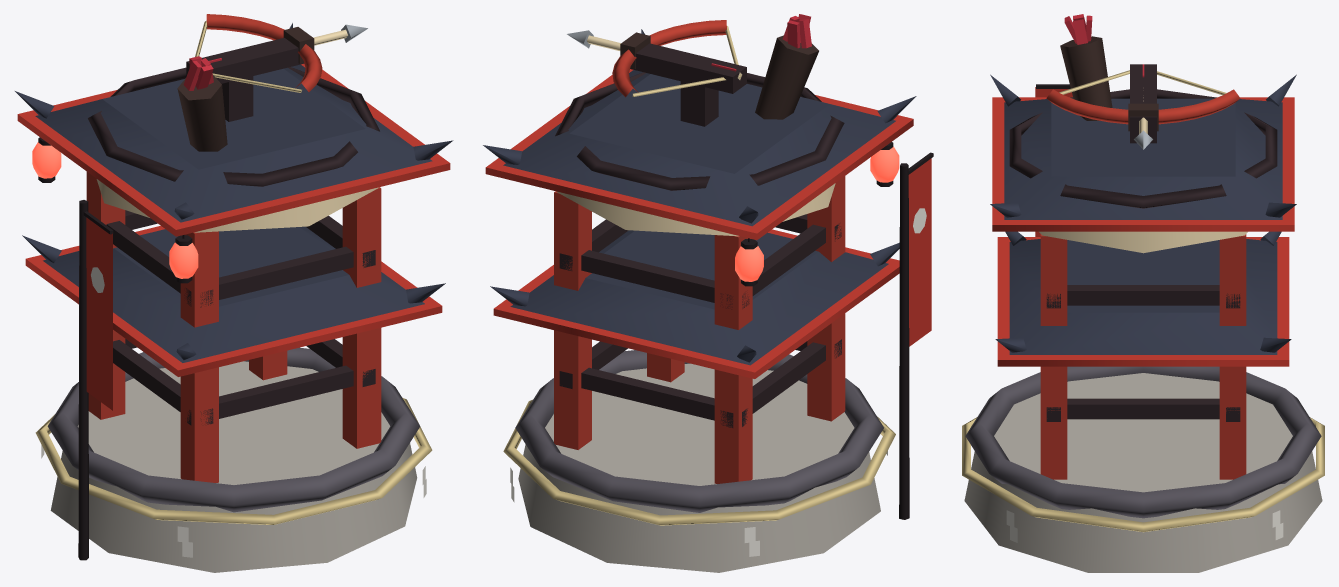
The model's file is tower_archer.glb.
3 views of the same model, side by side, from view 1: azimuth 30°, elevation 25°; view 2: azimuth 150°, elevation 25°; view 3: azimuth 270°, elevation 25° (orthographic). The views are drawn at different scales.
Visible parts, largest first — view 1: base, deco_eave_0_roof, deco_eave_1_roof, base_rim, deco_eave_0_rim, post_en, post_wn, deco_eave_1_rim, rail, deco_shimenawa_rope, deco_nobori_cloth, deco_nobori_pole (+17 smaller); view 2: base, deco_eave_0_roof, deco_eave_1_roof, base_rim, deco_eave_0_rim, post_ws, post_es, deco_eave_1_rim, deco_shimenawa_rope, post_wn, rail, deco_nobori_cloth (+17 smaller); view 3: base, deco_eave_0_roof, deco_eave_1_roof, base_rim, deco_eave_0_rim, deco_eave_1_rim, post_es, post_en, deco_shimenawa_rope, rail, beam_z_0_e, beam_z_1_e (+7 smaller).
Part boxes in pixels (x1,y1,x2,y2): base: (50, 361, 417, 572); deco_eave_0_roof: (35, 64, 432, 222); deco_eave_1_roof: (43, 226, 424, 362); base_rim: (47, 347, 420, 512); deco_eave_0_rim: (17, 63, 450, 236); post_en: (342, 187, 381, 448); post_wn: (180, 231, 218, 482); deco_eave_1_rim: (25, 226, 442, 376); rail: (88, 67, 379, 186); deco_shimenawa_rope: (35, 398, 432, 524); deco_nobori_cloth: (86, 217, 112, 410); deco_nobori_pole: (78, 200, 88, 560); base: (518, 363, 880, 572); deco_eave_0_roof: (503, 70, 895, 226); deco_eave_1_roof: (510, 230, 888, 365); base_rim: (515, 350, 883, 512); deco_eave_0_rim: (485, 69, 913, 240); post_ws: (714, 235, 752, 483); post_es: (554, 191, 591, 449); deco_eave_1_rim: (493, 229, 899, 378); deco_shimenawa_rope: (503, 399, 895, 525); post_wn: (807, 176, 845, 421); rail: (555, 72, 844, 190); deco_nobori_cloth: (908, 158, 931, 346); base: (964, 373, 1322, 572); deco_eave_0_roof: (1004, 98, 1282, 219); deco_eave_1_roof: (1009, 239, 1277, 354); base_rim: (965, 366, 1321, 518); deco_eave_0_rim: (992, 97, 1294, 231); deco_eave_1_rim: (997, 237, 1289, 366); post_es: (1219, 234, 1246, 479); post_en: (1040, 234, 1067, 479); deco_shimenawa_rope: (962, 417, 1324, 532); rail: (1009, 89, 1277, 208); beam_z_0_e: (1067, 398, 1219, 419); beam_z_1_e: (1067, 285, 1219, 305).
Size of the model in its own units: 0.4387 by 0.5582 by 0.4052.
